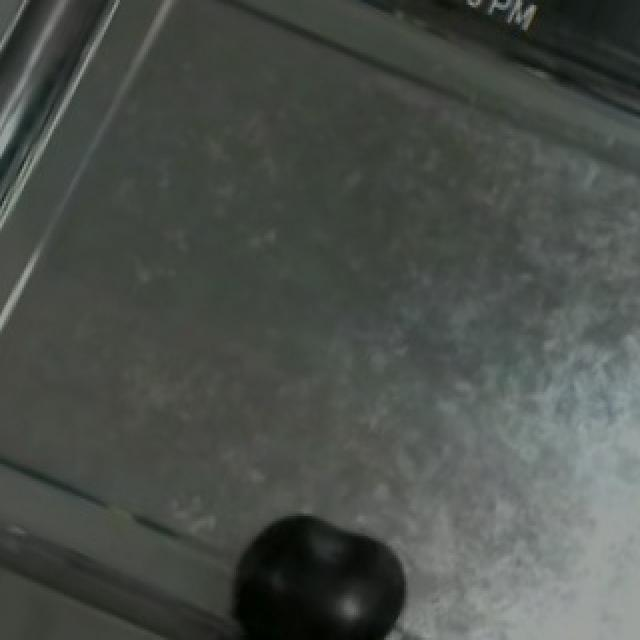Fruit: (222, 496, 414, 640)
